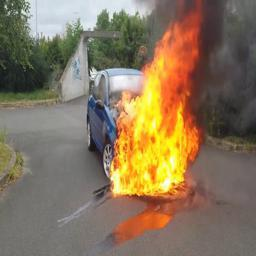fire: (108, 0, 202, 195)
